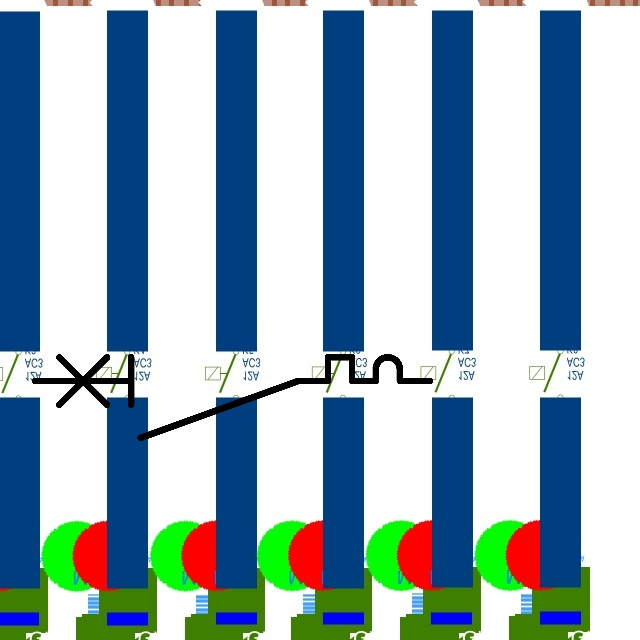interruptor_termomagnetico: (25, 347, 440, 448)
